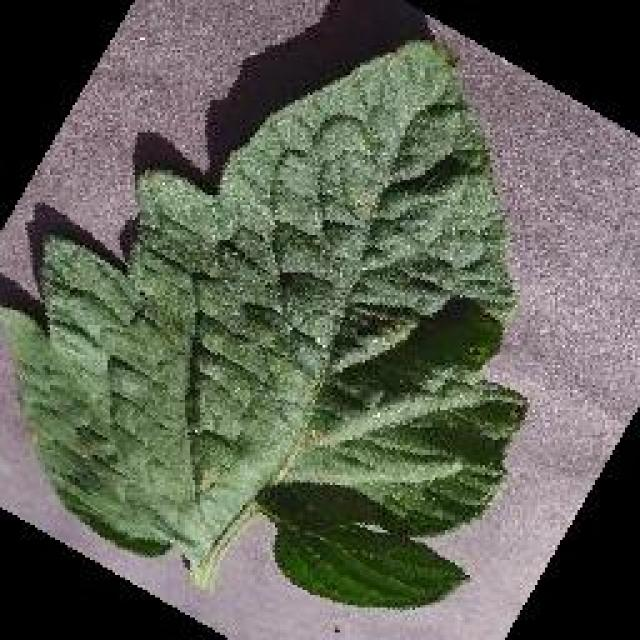Tomato___Target_Spot: (0, 40, 522, 605)
